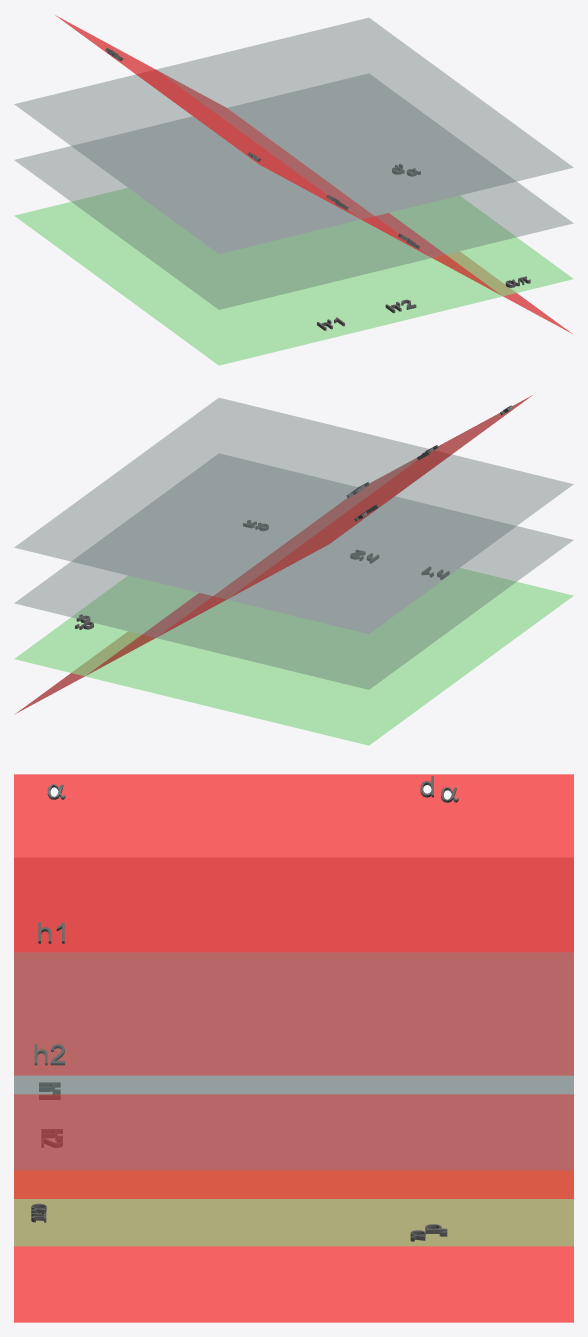
Rendered from reta_declive.dae.
3 renders of one model, top to bottom at view 1: azimuth 30°, elevation 25°; view 2: azimuth 150°, elevation 25°; view 3: azimuth 270°, elevation 25°, orthographic. The views are drawn at different scales.
Visible parts, largest first — view 1: SketchUp (×4); view 2: SketchUp (×4); view 3: SketchUp (×4).
Boxes of the visible parts, box(x1,y1,x2,y2) form: SketchUp (×4): box(14, 15, 573, 365); SketchUp (×4): box(14, 395, 573, 745); SketchUp (×4): box(14, 774, 573, 1322).
Size of the model in its own units: 100 by 100 by 66.78.
